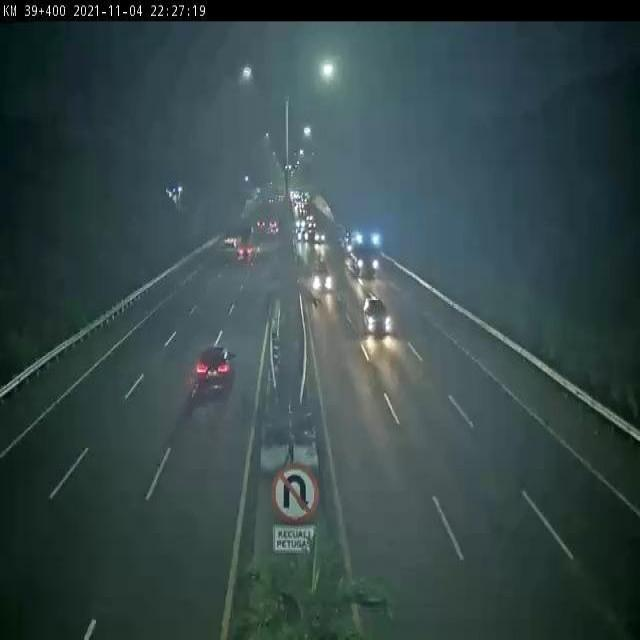car: (197, 347, 234, 393), (359, 296, 392, 332), (311, 261, 333, 292)
truck-m-: (234, 226, 255, 262)
truck-xl-: (346, 229, 380, 275)
